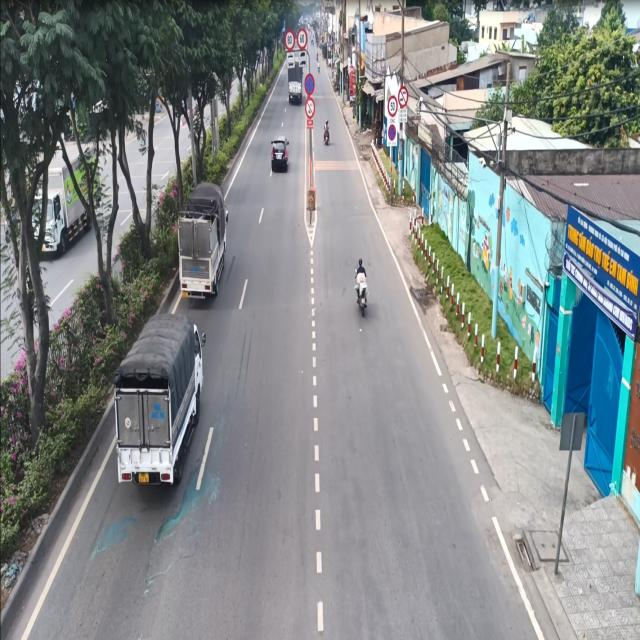car: (270, 128, 289, 176)
motor: (349, 253, 373, 322), (322, 116, 333, 148)
truck: (109, 308, 209, 513), (171, 177, 229, 302), (288, 59, 306, 110)
